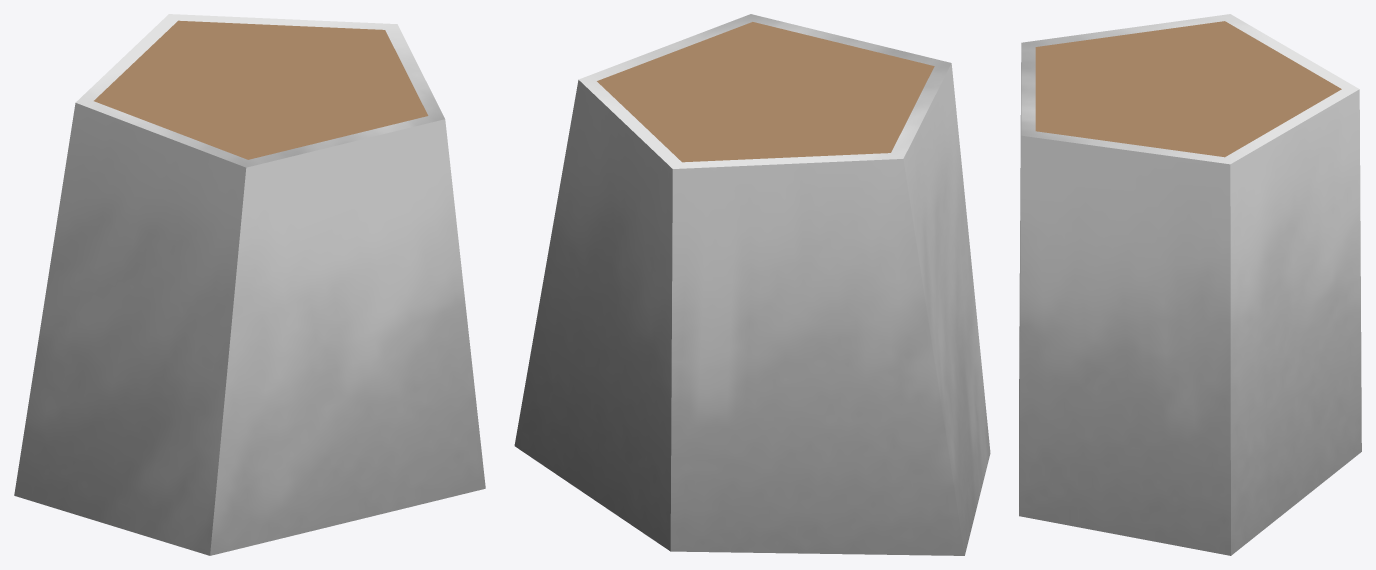
Rendered from Birch_Stump_03.fbx.
3 renders of one model, left to right at view 1: azimuth 30°, elevation 25°; view 2: azimuth 150°, elevation 25°; view 3: azimuth 270°, elevation 25°, orthographic. The views are drawn at different scales.
Visible parts, largest first — view 1: Birch_Stump_03; view 2: Birch_Stump_03; view 3: Birch_Stump_03.
Part boxes in pixels (x1,y1,x2,y2): Birch_Stump_03: [14, 14, 485, 555]; Birch_Stump_03: [514, 14, 990, 555]; Birch_Stump_03: [1019, 14, 1361, 555].
Size of the model in its own units: 81.96 by 66.42 by 56.98.
